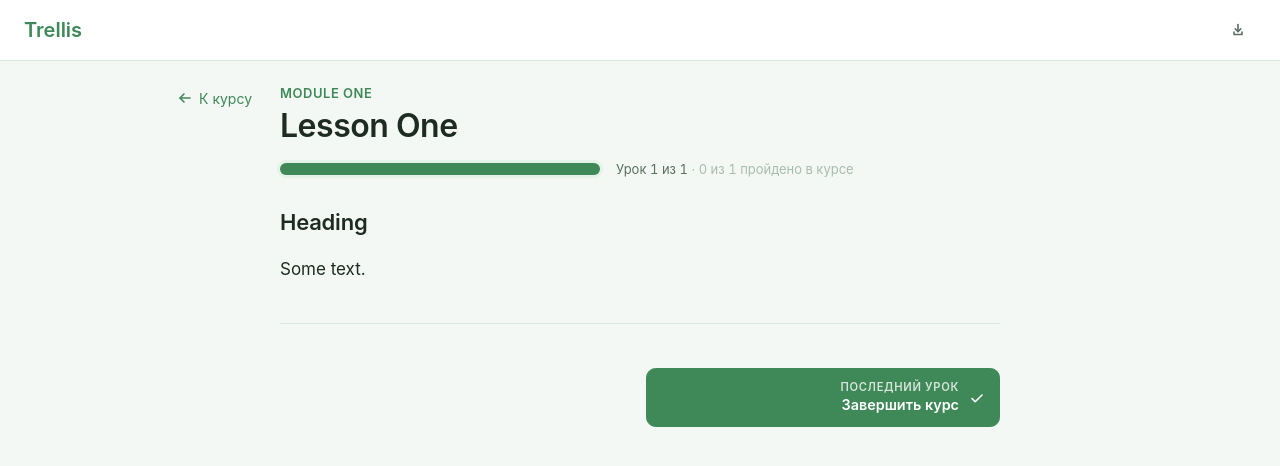
it: LessonView › renders the lesson's Markdown content and marks it done on click (happy path)
This screenshot has width=1280, height=466.
expect the heading "Heading" is shown: met, box [280, 209, 367, 235]
expect the text "Some text." is shown: met, box [280, 259, 366, 279]
Click the button "Последний урок Завершить курс": (900, 387) [646, 368, 1000, 427]
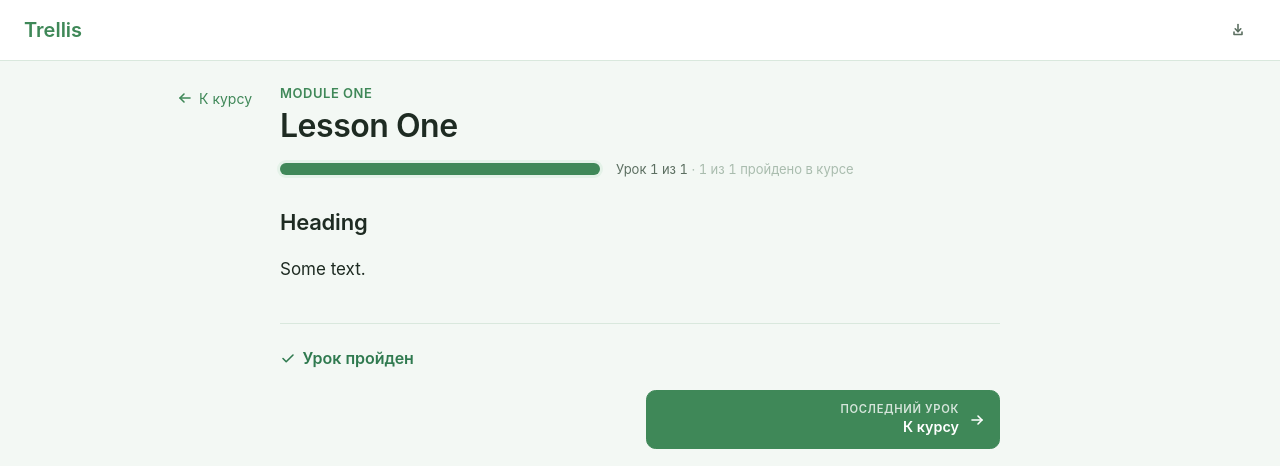
expect the text "Урок пройден" is shown: met, box [280, 348, 414, 368]
expect the button "Завершить курс" is gone: met
expect the link with aria-label "Вернуться к курсу" is shown: met, box [646, 390, 1000, 449]
